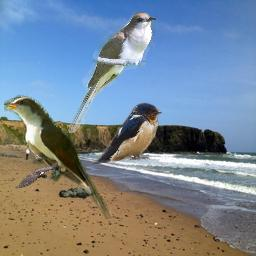Crow: (15, 162, 58, 189)
Cuckoo: (4, 94, 112, 219), (67, 12, 156, 134)
Swallow: (91, 102, 163, 165)
